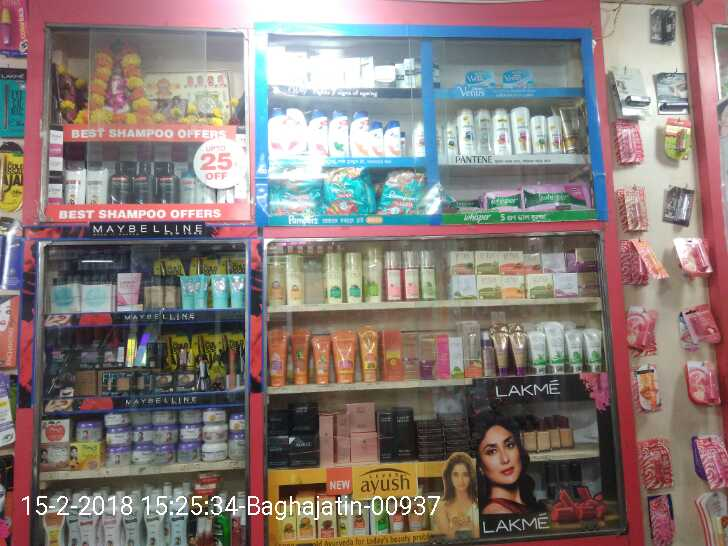venus: (503, 69, 534, 87), (465, 70, 494, 88)
